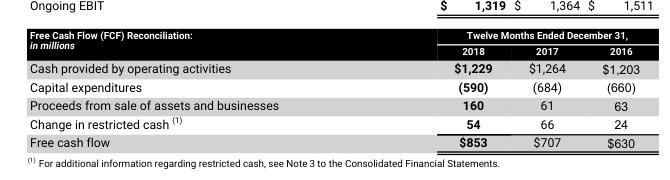table: (29, 29, 639, 149)
table column: (29, 29, 365, 149), (365, 29, 509, 149), (509, 29, 583, 149), (583, 29, 639, 149)
table column header: (29, 29, 639, 58)
table row: (29, 58, 639, 77), (29, 113, 639, 132), (29, 77, 639, 95), (29, 95, 639, 113), (29, 132, 639, 149), (29, 42, 639, 58), (29, 29, 639, 42)
table spanning cell: (29, 29, 365, 58), (365, 29, 639, 42)
